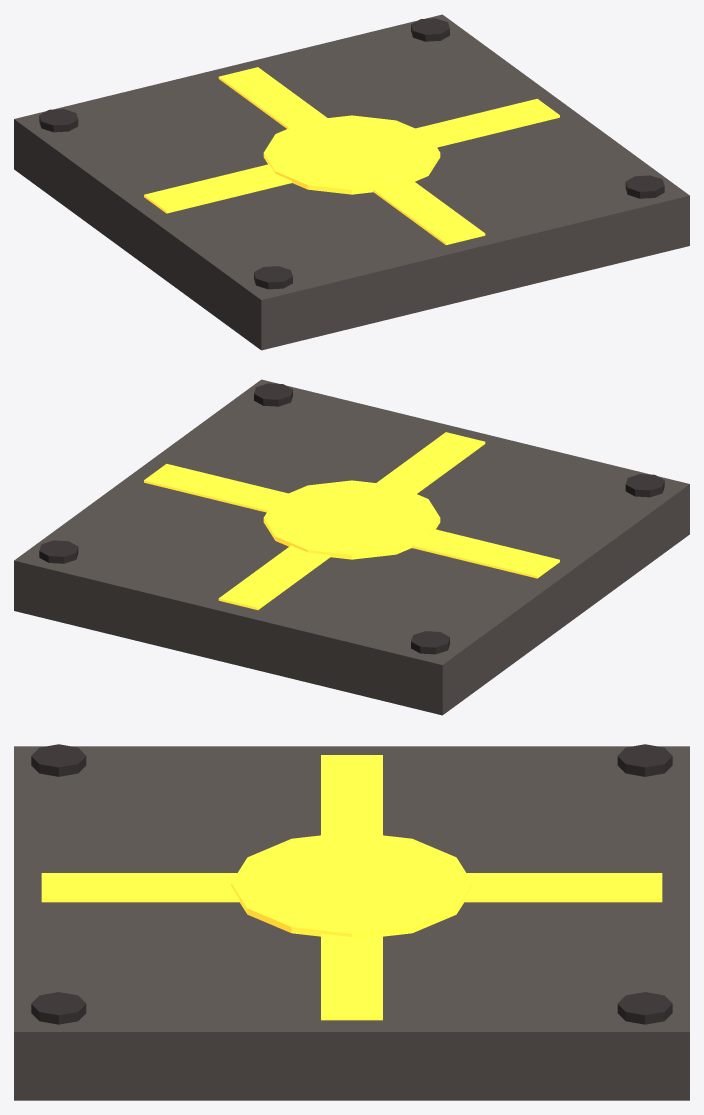
The model's file is floor-tile-magma.glb.
The picture shows the model from 3 angles, top to bottom: view 1: azimuth 30°, elevation 25°; view 2: azimuth 150°, elevation 25°; view 3: azimuth 270°, elevation 25°; orthographic projection. The views are drawn at different scales.
Parts seen in each view (by area): view 1: Magma_Floor_Slab, Magma_Pool, Magma_Fissure_X, Magma_Fissure_Y, Magma_Stud_0.85_-0.85, Magma_Stud_-0.85_0.85, Magma_Stud_-0.85_-0.85, Magma_Stud_0.85_0.85; view 2: Magma_Floor_Slab, Magma_Pool, Magma_Fissure_X, Magma_Fissure_Y, Magma_Stud_0.85_0.85, Magma_Stud_-0.85_-0.85, Magma_Stud_-0.85_0.85, Magma_Stud_0.85_-0.85; view 3: Magma_Floor_Slab, Magma_Pool, Magma_Fissure_Y, Magma_Fissure_X, Magma_Stud_-0.85_0.85, Magma_Stud_-0.85_-0.85, Magma_Stud_0.85_0.85, Magma_Stud_0.85_-0.85.
Boxes of the visible parts, x1=… form: Magma_Floor_Slab: x1=14, y1=14, x2=689, y2=350; Magma_Pool: x1=263, y1=115, x2=440, y2=194; Magma_Fissure_X: x1=144, y1=98, x2=559, y2=213; Magma_Fissure_Y: x1=218, y1=67, x2=485, y2=244; Magma_Stud_0.85_-0.85: x1=625, y1=175, x2=664, y2=198; Magma_Stud_-0.85_0.85: x1=39, y1=109, x2=78, y2=132; Magma_Stud_-0.85_-0.85: x1=254, y1=266, x2=292, y2=289; Magma_Stud_0.85_0.85: x1=411, y1=18, x2=449, y2=41; Magma_Floor_Slab: x1=14, y1=379, x2=689, y2=715; Magma_Pool: x1=263, y1=480, x2=440, y2=559; Magma_Fissure_X: x1=144, y1=463, x2=559, y2=578; Magma_Fissure_Y: x1=218, y1=432, x2=485, y2=609; Magma_Stud_0.85_0.85: x1=39, y1=540, x2=78, y2=563; Magma_Stud_-0.85_-0.85: x1=625, y1=474, x2=664, y2=497; Magma_Stud_-0.85_0.85: x1=411, y1=631, x2=449, y2=654; Magma_Stud_0.85_-0.85: x1=254, y1=383, x2=292, y2=406; Magma_Floor_Slab: x1=14, y1=746, x2=689, y2=1100; Magma_Pool: x1=231, y1=832, x2=472, y2=936; Magma_Fissure_Y: x1=41, y1=873, x2=662, y2=902; Magma_Fissure_X: x1=321, y1=755, x2=382, y2=1020; Magma_Stud_-0.85_0.85: x1=617, y1=744, x2=672, y2=776; Magma_Stud_-0.85_-0.85: x1=31, y1=744, x2=86, y2=776; Magma_Stud_0.85_0.85: x1=617, y1=992, x2=672, y2=1024; Magma_Stud_0.85_-0.85: x1=31, y1=992, x2=86, y2=1024.
Bounding box in the file's own units: 1.96 × 0.25 × 1.96.
